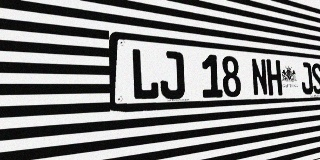1: (201, 54, 223, 98)
8: (221, 55, 241, 97)
H: (266, 59, 283, 96)
J: (159, 50, 185, 99), (300, 62, 313, 94)
L: (130, 48, 160, 100)
N: (251, 58, 268, 96)
S: (311, 63, 320, 94)
